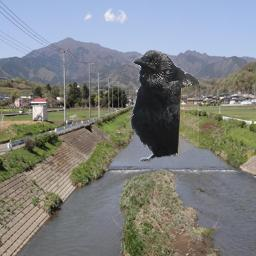Crow: (128, 49, 199, 162)
